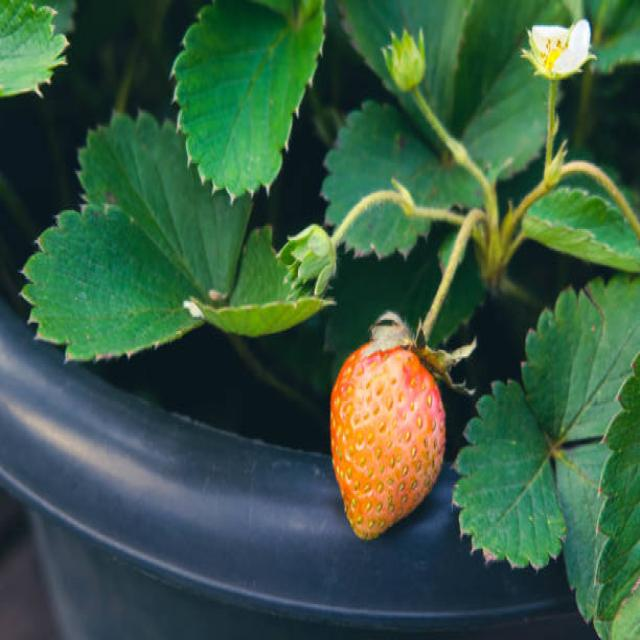Healthy Fruit: (330, 336, 445, 543)
